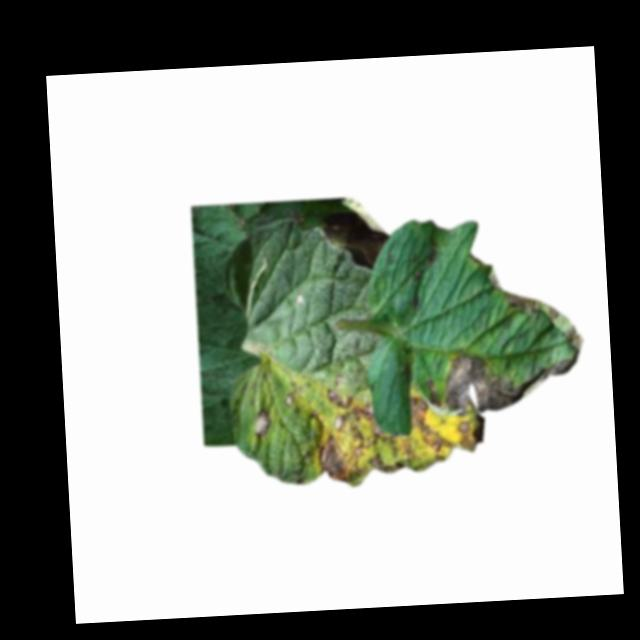Early_blight: (315, 381, 480, 490), (424, 347, 575, 417), (488, 259, 586, 353), (319, 194, 387, 272), (253, 405, 273, 433)
